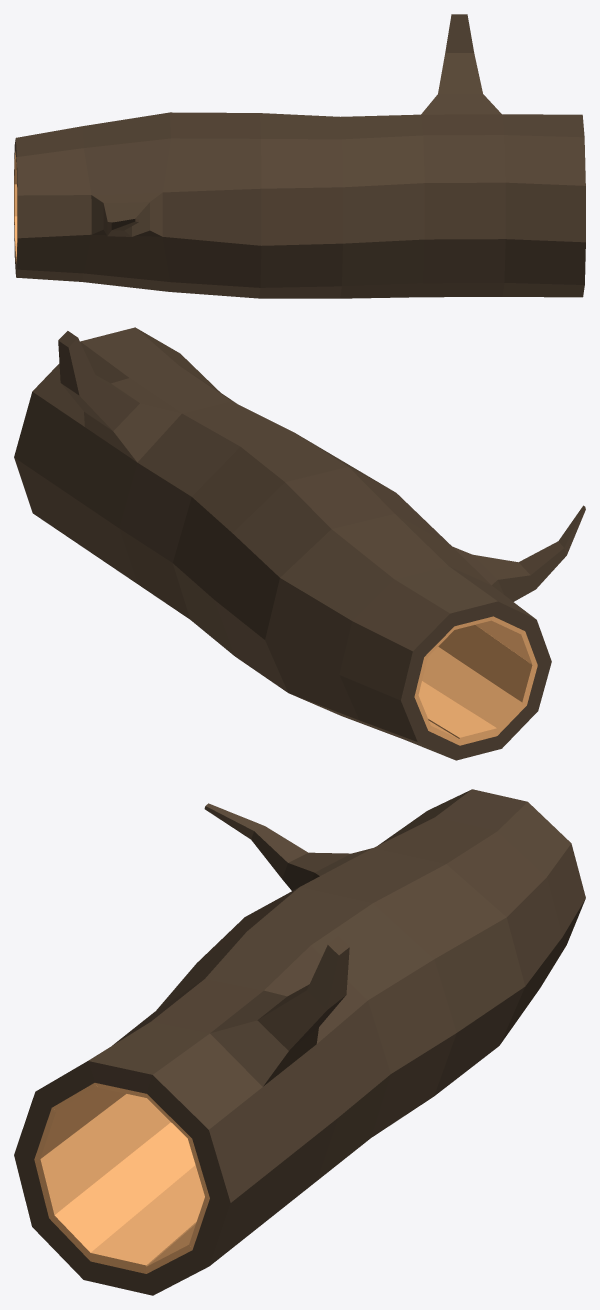
The model's file is PUNO NATUMBA.fbx.
3 renders of one model, top to bottom at view 1: azimuth 30°, elevation 25°; view 2: azimuth 150°, elevation 25°; view 3: azimuth 270°, elevation 25°, orthographic. The views are drawn at different scales.
Visible parts, largest first — view 1: Log2; view 2: Log2; view 3: Log2.
Boxes of the visible parts, <box> form: Log2: <box>14,14,585,298</box>; Log2: <box>14,327,585,760</box>; Log2: <box>14,789,585,1295</box>.
Bounding box in the file's own units: 1117 × 484 × 794.
